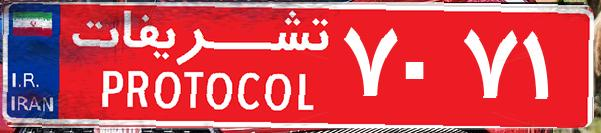0: (400, 20, 460, 115)
1: (520, 20, 580, 115)
7: (340, 20, 400, 115), (460, 20, 520, 115)
تشریفات: (60, 8, 340, 125)
